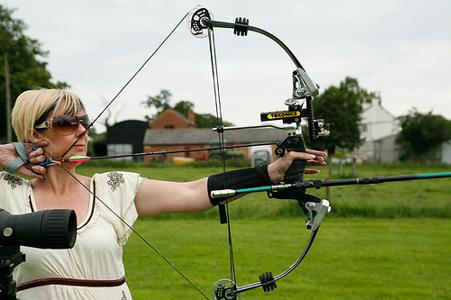person: (1, 85, 326, 300)
